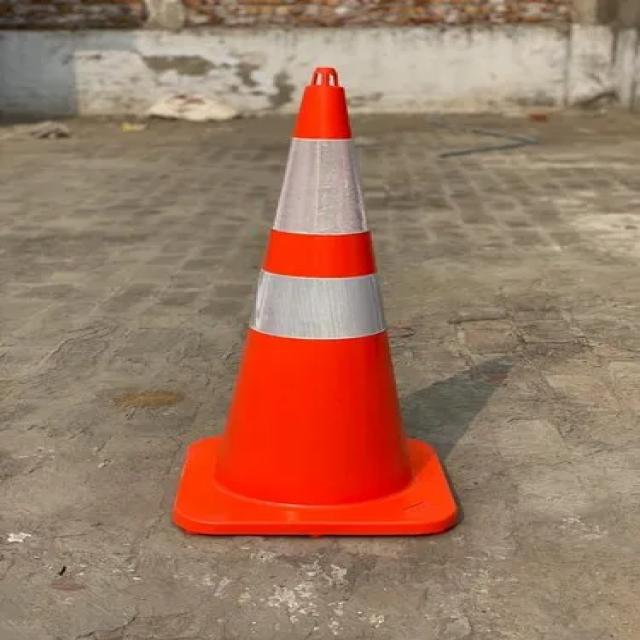Traffic Cone: (83, 22, 583, 631)
